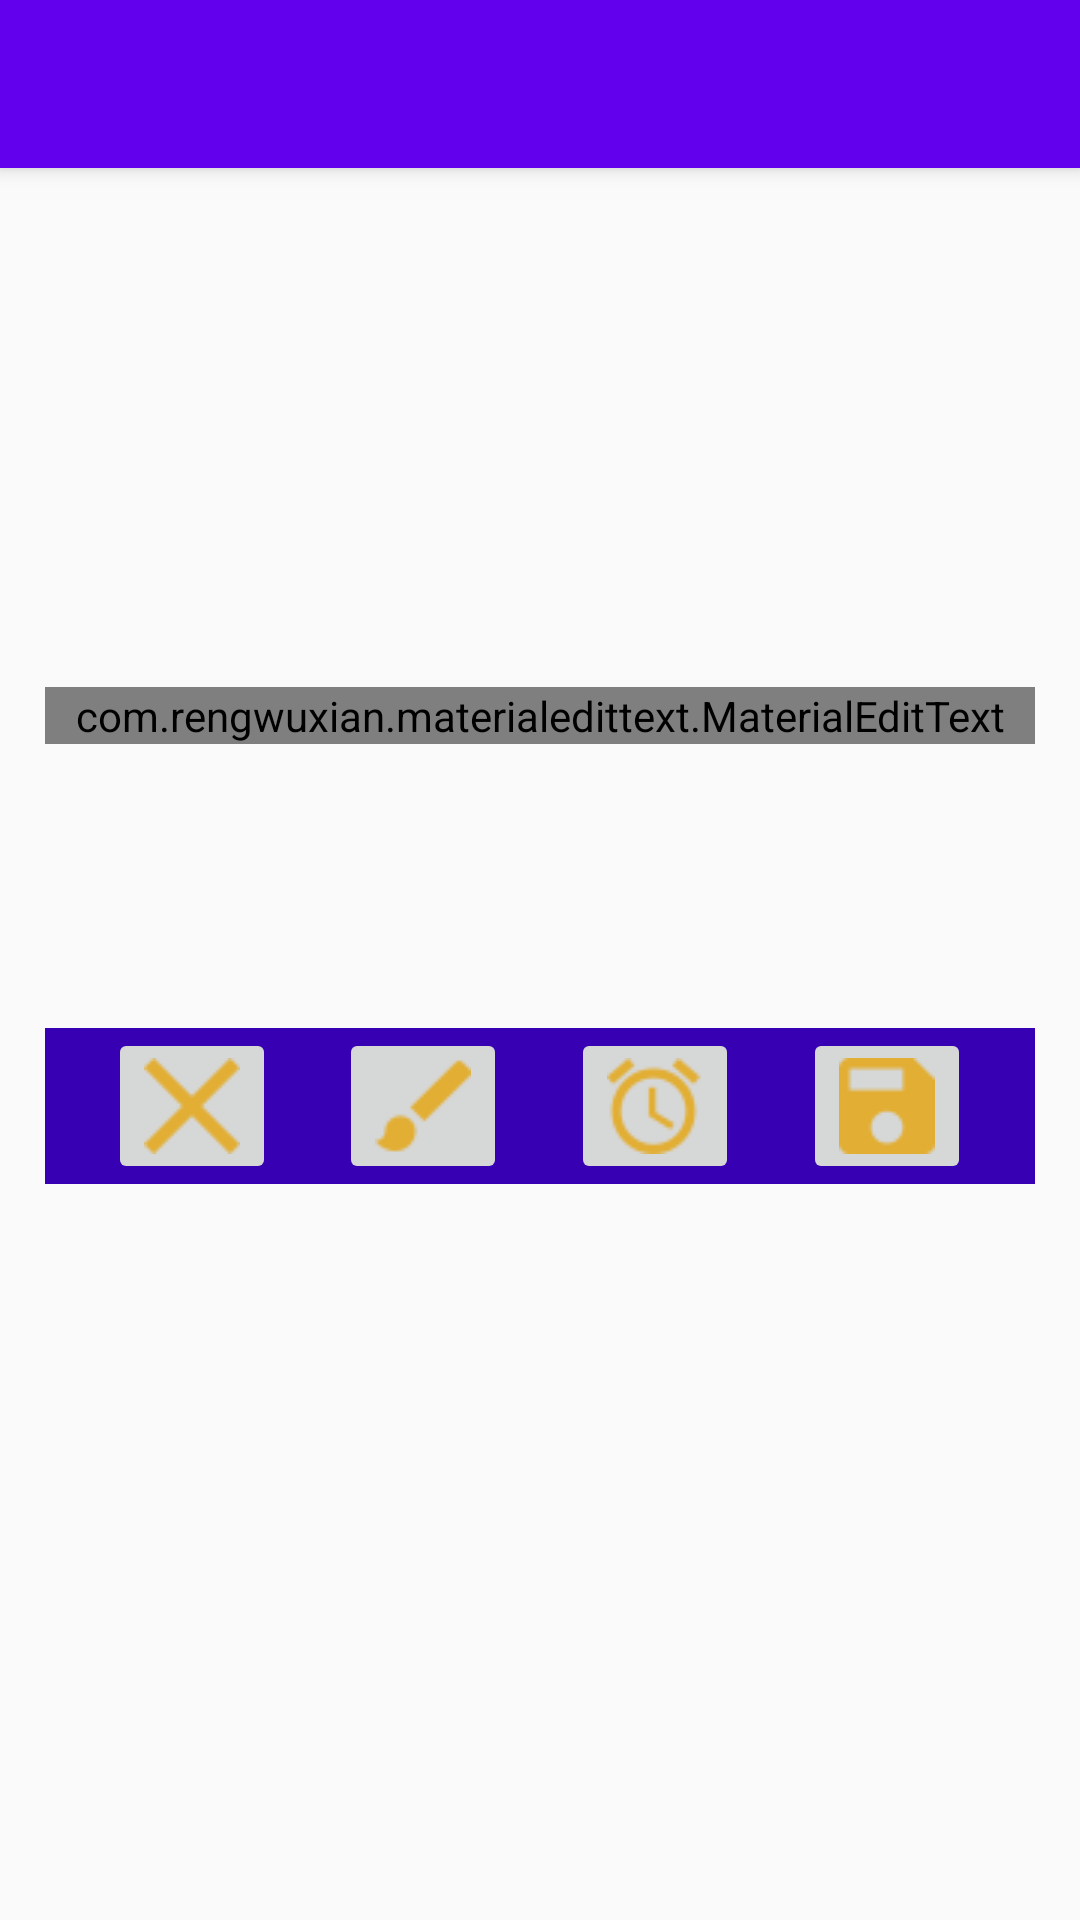

Where icons sit on this 1080px x 1920px app screen, as (x1, y1, x2, y2):
brush: (351, 1046, 495, 1166)
clock: (583, 1046, 727, 1166)
close: (120, 1046, 264, 1166)
save: (815, 1046, 959, 1166)
